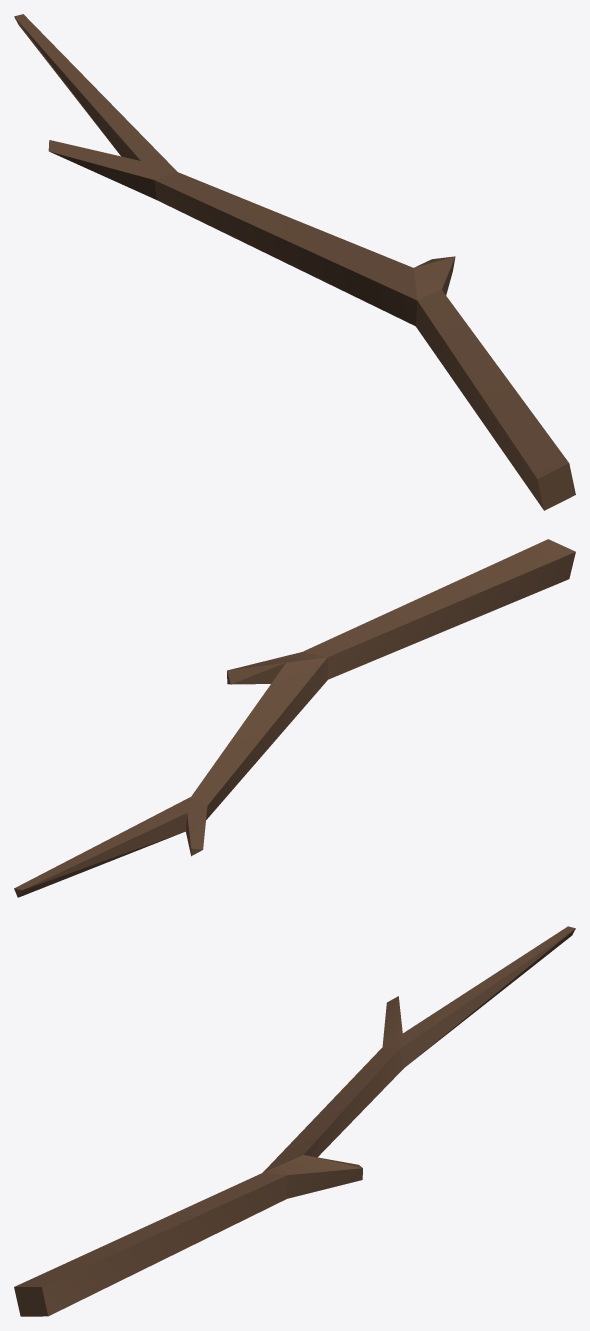
The model's file is BranchD.fbx.
The picture shows the model from 3 angles, top to bottom: view 1: azimuth 30°, elevation 25°; view 2: azimuth 150°, elevation 25°; view 3: azimuth 330°, elevation 25°; orthographic projection. The views are drawn at different scales.
Parts seen in each view (by area): view 1: BranchD; view 2: BranchD; view 3: BranchD.
Part boxes in pixels (left/top/right/bottom): BranchD: left=14, top=14, right=575, bottom=510; BranchD: left=14, top=539, right=575, bottom=897; BranchD: left=14, top=926, right=575, bottom=1316.
Size of the model in its own units: 29.39 by 6.97 by 159.
